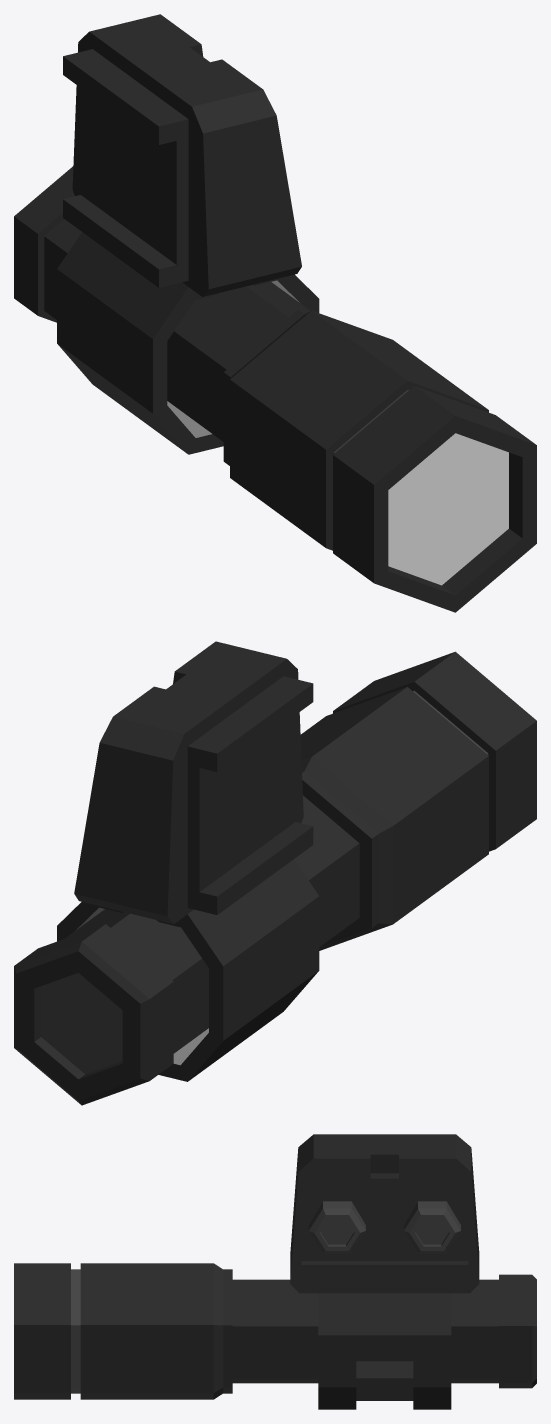
The model's file is Light_B_Left.fbx.
The picture shows the model from 3 angles, top to bottom: view 1: azimuth 30°, elevation 25°; view 2: azimuth 150°, elevation 25°; view 3: azimuth 270°, elevation 25°; orthographic projection. The views are drawn at different scales.
Parts seen in each view (by area): view 1: Light_B_Left, Light_B_Left_Part; view 2: Light_B_Left, Light_B_Left_Part; view 3: Light_B_Left, Light_B_Left_Part.
Part boxes in pixels (x1,y1,x2,y2): Light_B_Left: (14, 166, 536, 612); Light_B_Left_Part: (57, 14, 319, 454); Light_B_Left: (14, 651, 536, 1105); Light_B_Left_Part: (57, 641, 319, 1081); Light_B_Left: (14, 1263, 536, 1399); Light_B_Left_Part: (290, 1134, 479, 1409).
Bounding box in the file's own units: 0.035 × 0.0723 × 0.1375.
